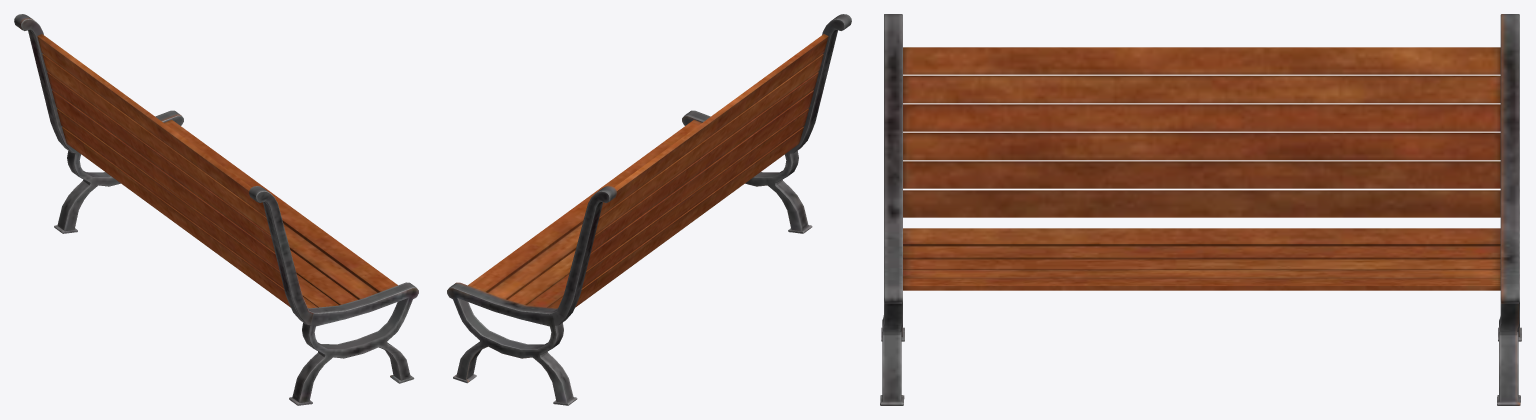
Rendered from StreetBench.glb.
The picture shows the model from 3 angles, left to right: view 1: azimuth 30°, elevation 25°; view 2: azimuth 150°, elevation 25°; view 3: azimuth 270°, elevation 25°; orthographic projection. The views are drawn at different scales.
Visible parts, largest first — view 1: Cube_1; view 2: Cube_1; view 3: Cube_1.
Part boxes in pixels (x1,y1,x2,y2): Cube_1: [14, 14, 418, 405]; Cube_1: [447, 14, 851, 405]; Cube_1: [880, 14, 1521, 405].
Size of the model in its own units: 0.7041 by 0.9292 by 1.83.
Materials: 1 (1 with a texture image).
